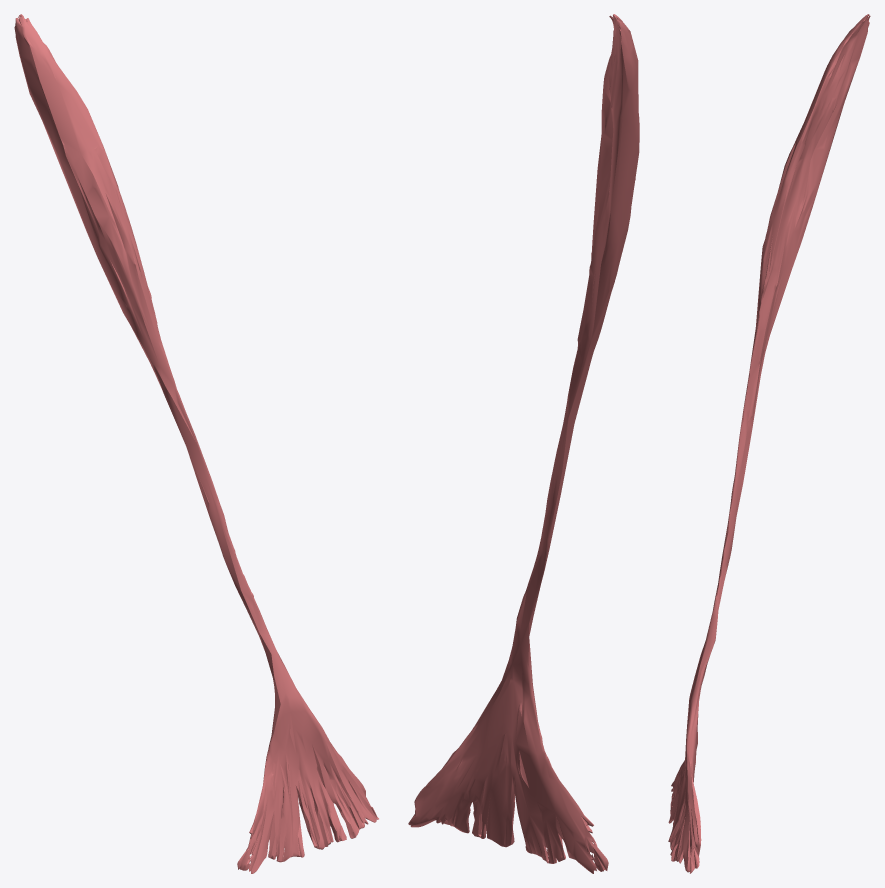
3 renders of one model, left to right at view 1: azimuth 30°, elevation 25°; view 2: azimuth 150°, elevation 25°; view 3: azimuth 270°, elevation 25°, orthographic. The views are drawn at different scales.
Parts seen in each view (by area): view 1: FJ1502M; view 2: FJ1502M; view 3: FJ1502M.
Part boxes in pixels (x1=…): FJ1502M: x1=14, y1=14, x2=378, y2=873; FJ1502M: x1=408, y1=14, x2=639, y2=873; FJ1502M: x1=668, y1=14, x2=870, y2=873.
Size of the model in its own units: 0.1106 by 0.3191 by 0.0777.
